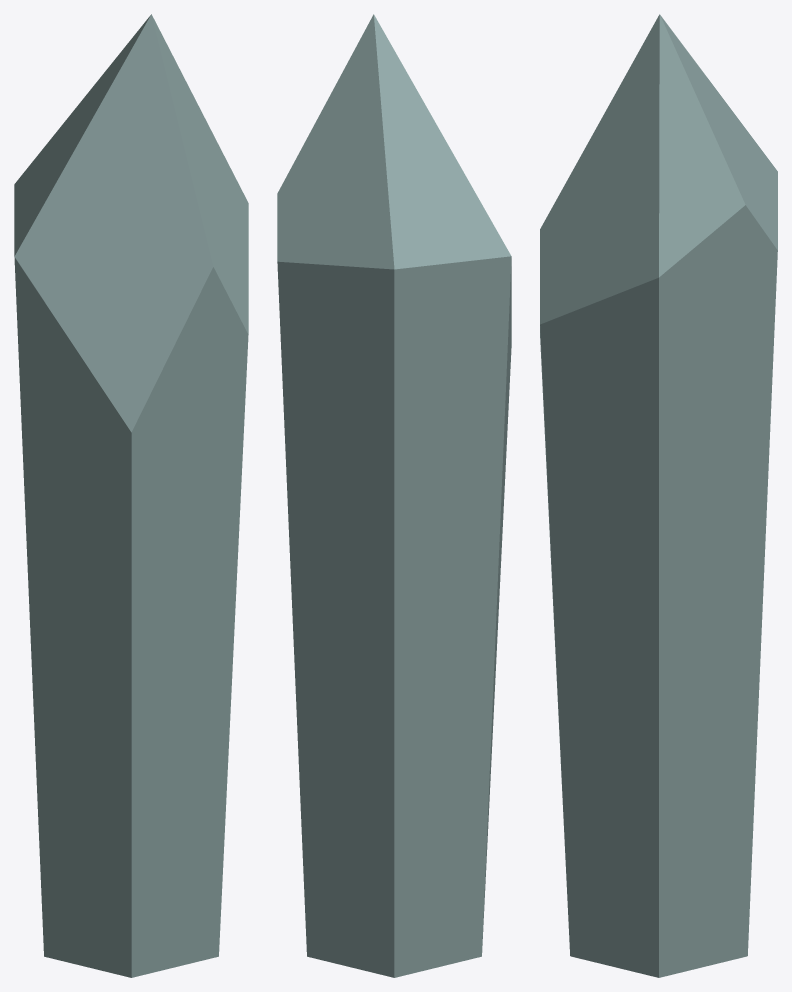
The model's file is Cristal_01.fbx.
3 views of the same model, side by side, from view 1: azimuth 30°, elevation 25°; view 2: azimuth 150°, elevation 25°; view 3: azimuth 270°, elevation 25° (orthographic).
Parts seen in each view (by area): view 1: Cristal_01; view 2: Cristal_01; view 3: Cristal_01.
Boxes of the visible parts, box(x1,y1,x2,y2) form: Cristal_01: box(14, 14, 248, 977); Cristal_01: box(277, 14, 511, 977); Cristal_01: box(540, 14, 777, 977).
Size of the model in its own units: 2211 by 8268 by 1914.
